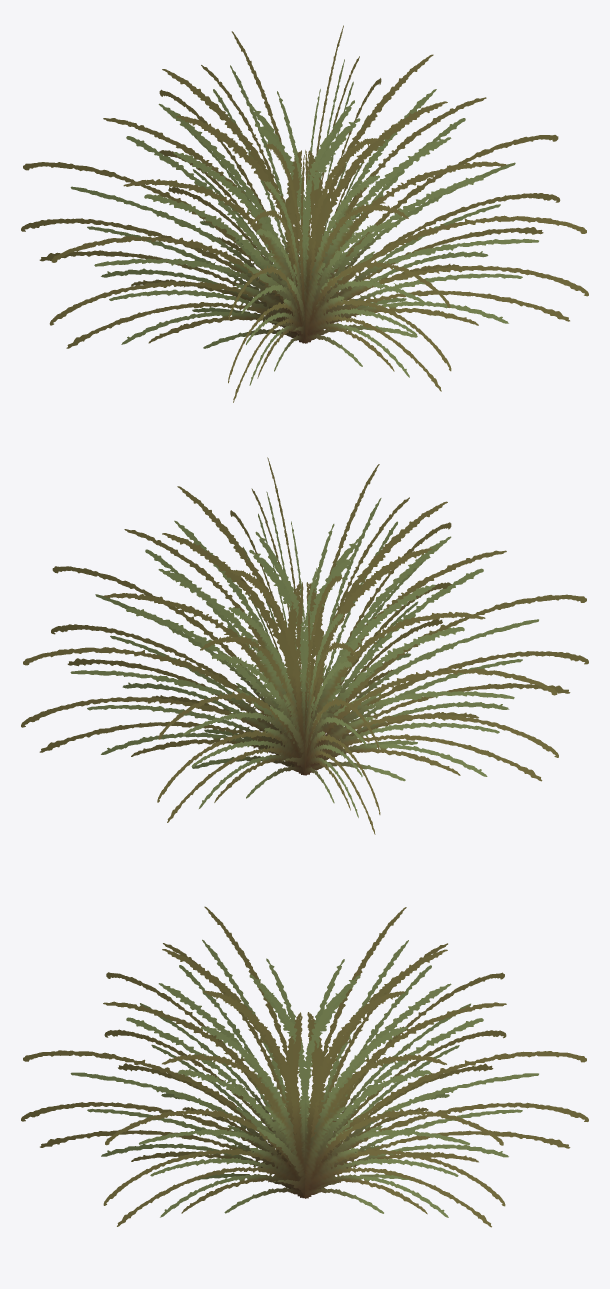
File: HP3_weed044.fbx
3 views of the same model, one above another, from view 1: azimuth 30°, elevation 25°; view 2: azimuth 150°, elevation 25°; view 3: azimuth 270°, elevation 25° (orthographic). The views are drawn at different scales.
Visible parts, largest first — view 1: HP3_weed044; view 2: HP3_weed044; view 3: HP3_weed044.
Part boxes in pixels (bbox=[...]): HP3_weed044: bbox=[21, 25, 588, 402]; HP3_weed044: bbox=[21, 457, 588, 834]; HP3_weed044: bbox=[21, 906, 588, 1227].
Bounding box in the file's own units: 15.66 × 7.88 × 15.66.
